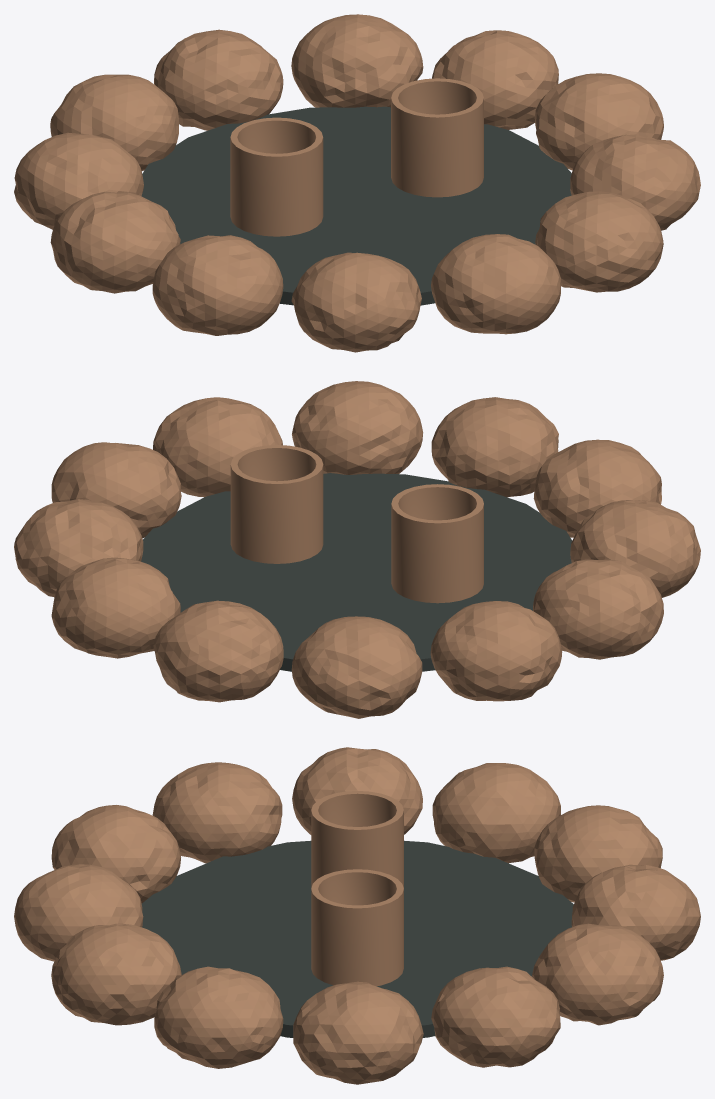
The model's file is primitive-crafting-workshop-pit-kiln-c45a86ad__21587.glb.
3 views of the same model, one above another, from view 1: azimuth 30°, elevation 25°; view 2: azimuth 150°, elevation 25°; view 3: azimuth 270°, elevation 25° (orthographic).
Visible parts, largest first — view 1: pit-kiln; view 2: pit-kiln; view 3: pit-kiln.
Part boxes in pixels (x1=…): pit-kiln: x1=14, y1=14, x2=700, y2=352; pit-kiln: x1=14, y1=381, x2=700, y2=718; pit-kiln: x1=14, y1=747, x2=700, y2=1084.
Bounding box in the file's own units: 1.47 × 0.23 × 1.48.
